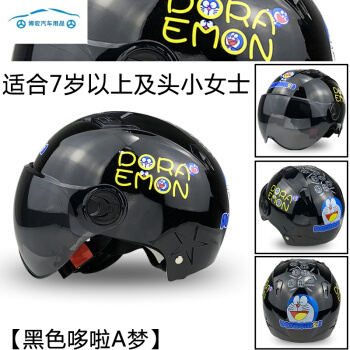helmet: (9, 121, 231, 297), (260, 163, 342, 245), (264, 68, 344, 139), (265, 266, 344, 333)
